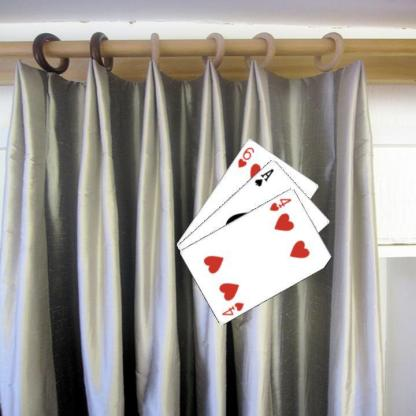4H: (220, 299, 245, 317), (267, 195, 293, 212)
6H: (235, 144, 256, 169)
AS: (252, 166, 275, 188)
